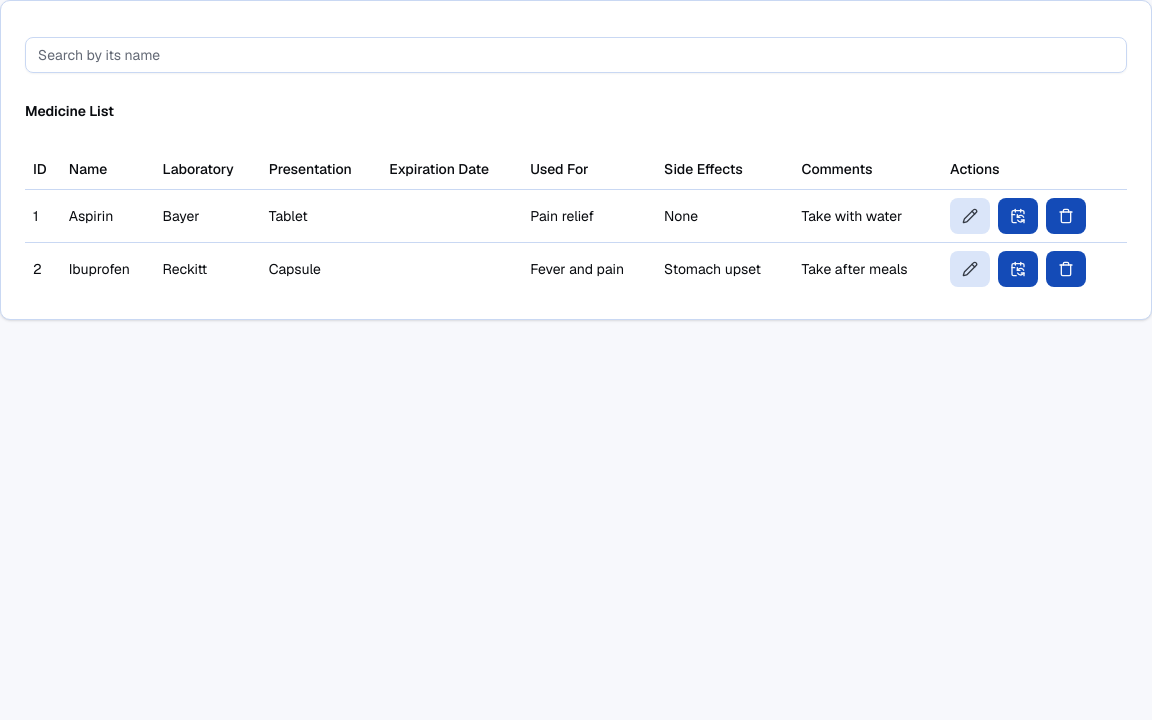
Test: [MedicineTable] › medicine name appears correctly in delete confirmation for multiple medicines
Click the button named "Delete" in the row of "Aspirin".
click(1066, 216)  # box [1046,198,1086,234]
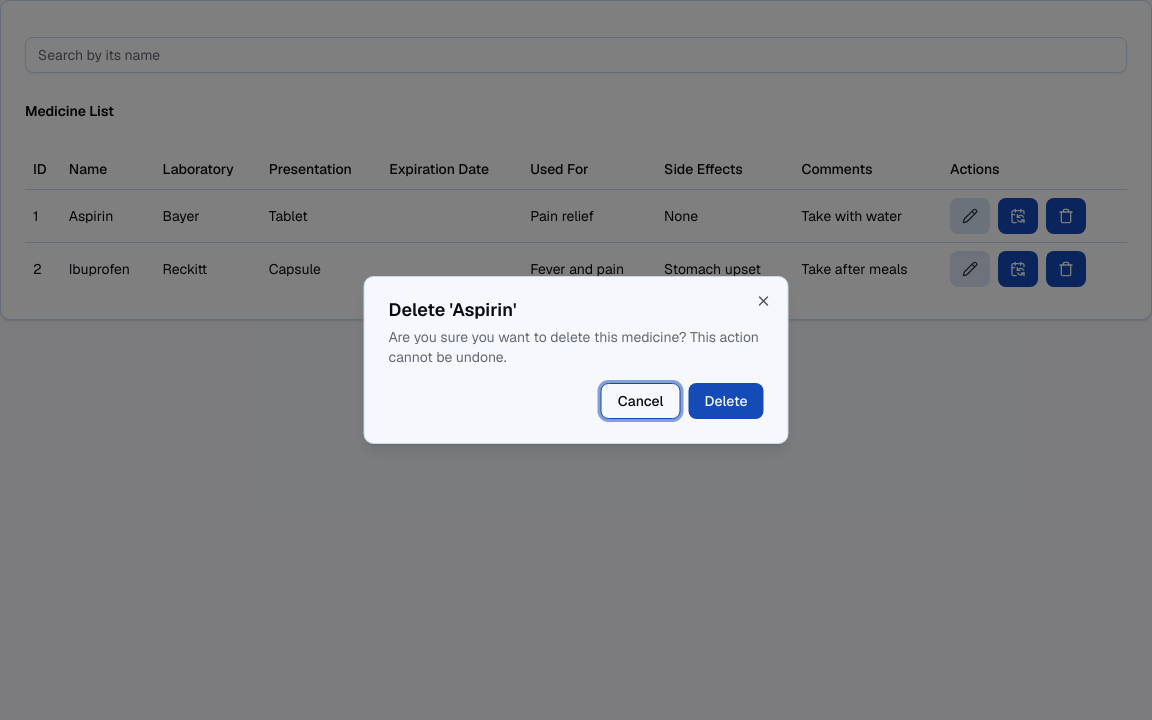
Result: the text "Are you sure you want to delete this medicine? This action cannot be undone." is shown at [388,327,764,367]
